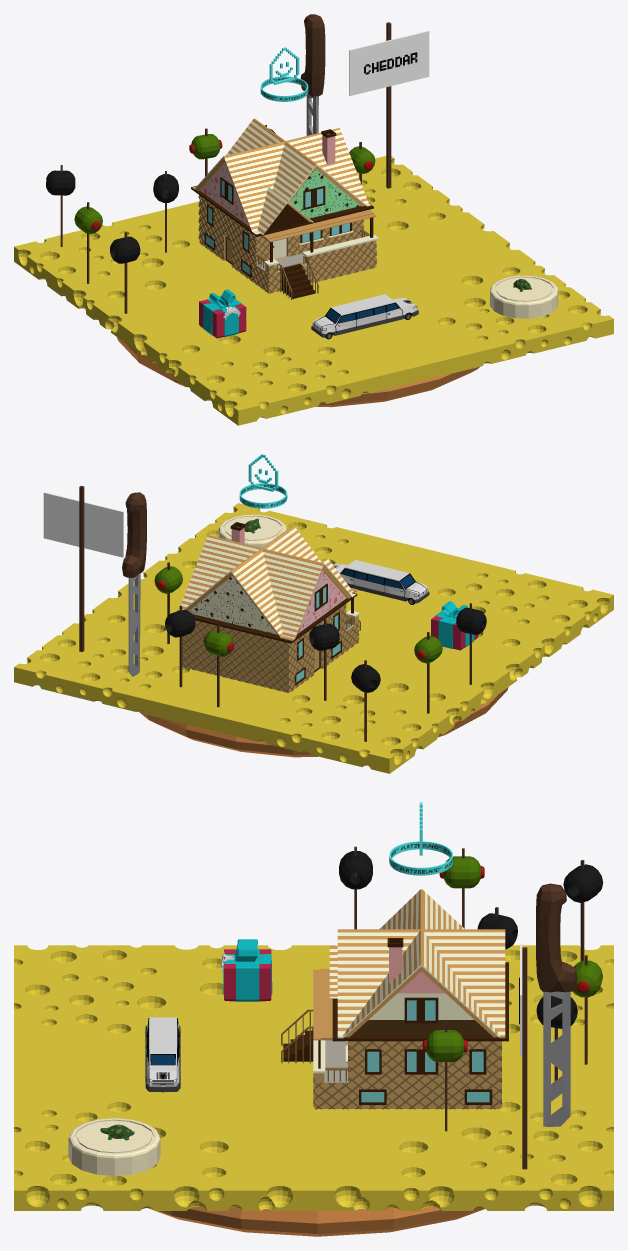
3 renders of one model, top to bottom at view 1: azimuth 30°, elevation 25°; view 2: azimuth 150°, elevation 25°; view 3: azimuth 270°, elevation 25°, orthographic. The views are drawn at different scales.
Visible parts, largest first — view 1: Cube.022, Cube.1102, Cube.023, VEHICLES_LIMOUSINE, Cylinder.016, Cube.024, UNDERGROUND_PIZZA, OBJRANDOM_GIANT_PRESENT, TYPE_PREMIUM, Sphere.017, Sphere.016, Sphere.018 (+3 smaller); view 2: Cube.022, Cube.1102, Cube.023, Cube.024, UNDERGROUND_PIZZA, VEHICLES_LIMOUSINE, Cylinder.016, OBJRANDOM_GIANT_PRESENT, TYPE_PREMIUM, Sphere.021, Sphere.020, Sphere.017 (+4 smaller); view 3: Cube.022, Cube.1102, Cube.024, UNDERGROUND_PIZZA, Cylinder.016, OBJRANDOM_GIANT_PRESENT, VEHICLES_LIMOUSINE, Cube.023, Sphere.016, Sphere.019, TYPE_PREMIUM, Sphere.018 (+4 smaller).
Part boxes in pixels (<box>): Cube.022: <box>14,156,613,425</box>; Cube.1102: <box>191,118,378,299</box>; Cube.023: <box>349,22,429,188</box>; VEHICLES_LIMOUSINE: <box>311,294,418,339</box>; Cylinder.016: <box>490,275,558,318</box>; Cube.024: <box>300,14,325,135</box>; UNDERGROUND_PIZZA: <box>117,337,479,407</box>; OBJRANDOM_GIANT_PRESENT: <box>199,289,246,338</box>; TYPE_PREMIUM: <box>260,47,308,101</box>; Sphere.017: <box>110,232,140,313</box>; Sphere.016: <box>46,165,75,246</box>; Sphere.018: <box>74,202,102,283</box>; Cube.022: <box>14,503,613,773</box>; Cube.1102: <box>178,522,360,693</box>; Cube.023: <box>43,485,123,651</box>; Cube.024: <box>122,492,146,676</box>; UNDERGROUND_PIZZA: <box>139,687,508,757</box>; VEHICLES_LIMOUSINE: <box>333,560,429,604</box>; Cylinder.016: <box>218,514,286,547</box>; OBJRANDOM_GIANT_PRESENT: <box>431,601,478,650</box>; TYPE_PREMIUM: <box>239,454,287,508</box>; Sphere.021: <box>165,605,195,687</box>; Sphere.020: <box>309,619,339,700</box>; Sphere.017: <box>456,603,486,684</box>; Cube.022: <box>14,945,613,1210</box>; Cube.1102: <box>281,889,508,1109</box>; Cube.024: <box>536,883,577,1126</box>; UNDERGROUND_PIZZA: <box>148,1207,484,1236</box>; Cylinder.016: <box>68,1118,160,1175</box>; OBJRANDOM_GIANT_PRESENT: <box>221,939,272,1001</box>; VEHICLES_LIMOUSINE: <box>145,1017,180,1092</box>; Cube.023: <box>519,943,527,1169</box>; Sphere.016: <box>563,860,603,961</box>; Sphere.019: <box>422,1022,467,1131</box>; TYPE_PREMIUM: <box>389,802,452,875</box>; Sphere.018: <box>439,848,484,928</box>.
Size of the model in its own units: 3917 by 2436 by 4000.
43 materials, 5 textured.
